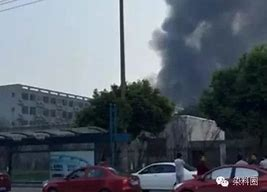smoke: (153, 1, 210, 97)
